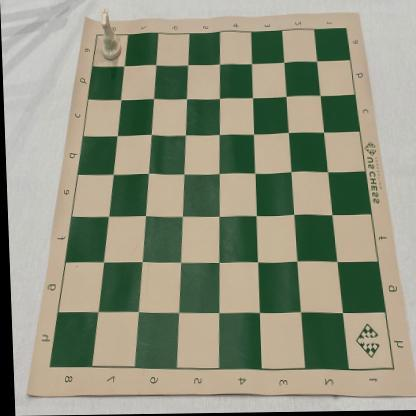white-knight: (99, 8, 122, 62)
